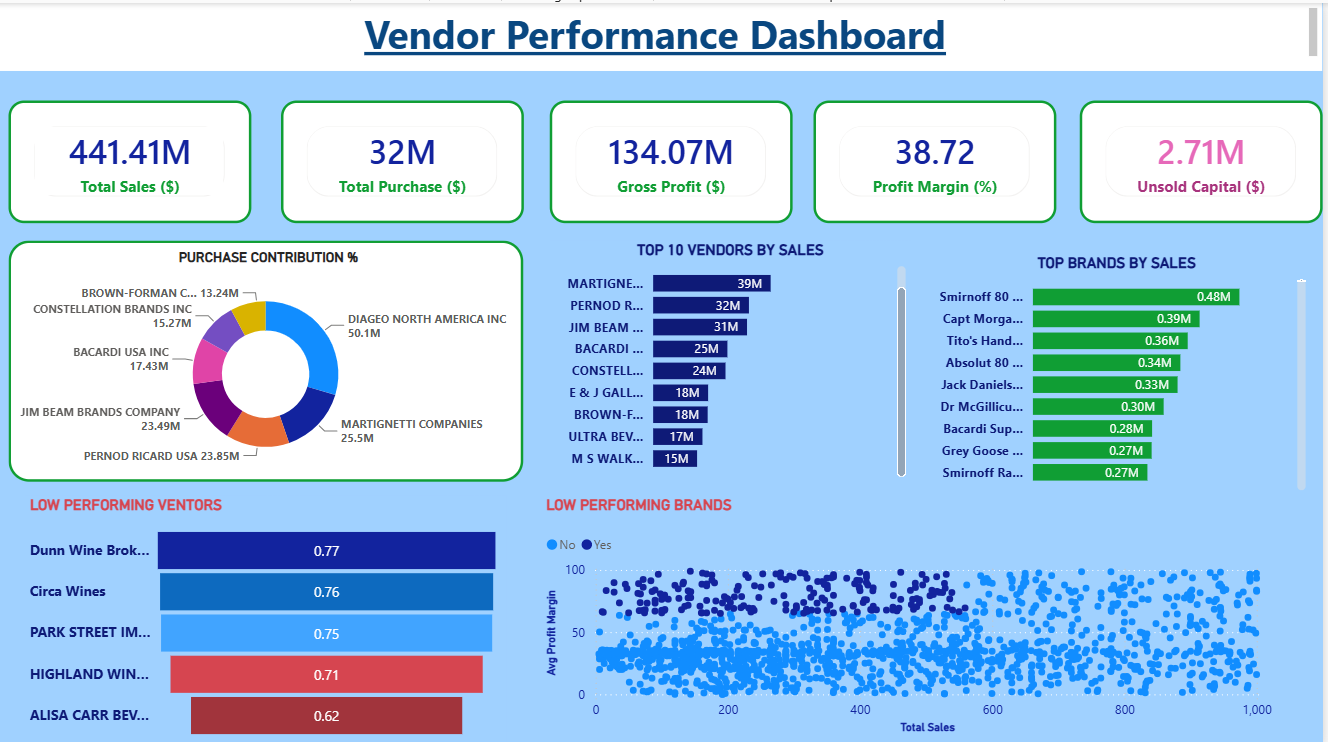

This screenshot's page, from the dashboard's own definition file:
{"tool":"powerbi","page":{"name":"Page 1","canvas":[1280,720],"ordinal":0},"visuals":[{"type":"textbox","box":[0,0,1280.3,65.9],"z":0},{"type":"cardVisual","fields":{"Data":["Sum(vendor_sales_summary.TotalSalesDollars)"]},"box":[12.1,94.1,234,118.2],"z":1000},{"type":"cardVisual","fields":{"Data":["Sum(vendor_sales_summary.TotalPurchaseQuantity)"]},"box":[275.1,94.1,234,118.2],"z":2000},{"type":"cardVisual","fields":{"Data":["Sum(vendor_sales_summary.GrossProfit)"]},"box":[534.5,94.1,234,118.2],"z":3000},{"type":"cardVisual","fields":{"Data":["Sum(vendor_sales_summary.UnsoldCapital)"]},"box":[1046,94.1,234,118.2],"z":4000},{"type":"cardVisual","fields":{"Data":["Avg(vendor_sales_summary.ProfitMargin)"]},"box":[789,94.1,234,118.2],"z":5000},{"type":"donutChart","title":"PURCHASE CONTRIBUTION %","fields":{"Category":["PurchaseContribution.VendorName"],"Y":["Sum(PurchaseContribution.TotalPurchaseDollars)"]},"box":[12.1,229.2,497.1,232.8],"z":6000},{"type":"barChart","title":"TOP 10  VENDORS BY SALES","fields":{"Category":["vendor_sales_summary.VendorName"],"Y":["Sum(vendor_sales_summary.TotalSalesDollars)"]},"box":[534.5,229.2,348.7,232.8],"z":7000},{"type":"barChart","title":"TOP BRANDS BY SALES","fields":{"Y":["Sum(vendor_sales_summary.TotalSalesQuantity)"],"Category":["vendor_sales_summary.Description"]},"box":[894,242.5,375.2,232.8],"z":8000},{"type":"funnel","title":"LOW PERFORMING VENTORS","fields":{"Category":["LowTurnoverVendor.VendorName"],"Y":["Sum(LowTurnoverVendor.AvgStockTurnOver)"]},"box":[27.7,475.3,464.5,238.9],"z":9000},{"type":"scatterChart","title":"LOW PERFORMING BRANDS","fields":{"Category":["BrandPerformance.Description"],"X":["Sum(BrandPerformance.TotalSales)"],"Y":["Sum(BrandPerformance.AvgProfitMargin)"],"Series":["BrandPerformance.TargetBrand"]},"box":[526,475.3,714.2,235],"z":10000}]}

Visuals, with their boxes in screenshot pixels (x1, y1, x2, y2), scaled from the page's 1280x720 canvas onto the 1328x742 screenshot:
textbox: <box>0,0,1327,68</box>
cardVisual - Sum(vendor_sales_summary.TotalSalesDollars): <box>13,97,255,219</box>
cardVisual - Sum(vendor_sales_summary.TotalPurchaseQuantity): <box>285,97,528,219</box>
cardVisual - Sum(vendor_sales_summary.GrossProfit): <box>555,97,797,219</box>
cardVisual - Sum(vendor_sales_summary.UnsoldCapital): <box>1085,97,1327,219</box>
cardVisual - Avg(vendor_sales_summary.ProfitMargin): <box>819,97,1061,219</box>
"PURCHASE CONTRIBUTION %" donutChart: <box>13,236,528,476</box>
"TOP 10  VENDORS BY SALES" barChart: <box>555,236,916,476</box>
"TOP BRANDS BY SALES" barChart: <box>928,250,1317,490</box>
"LOW PERFORMING VENTORS" funnel: <box>29,490,511,736</box>
"LOW PERFORMING BRANDS" scatterChart: <box>546,490,1287,732</box>
